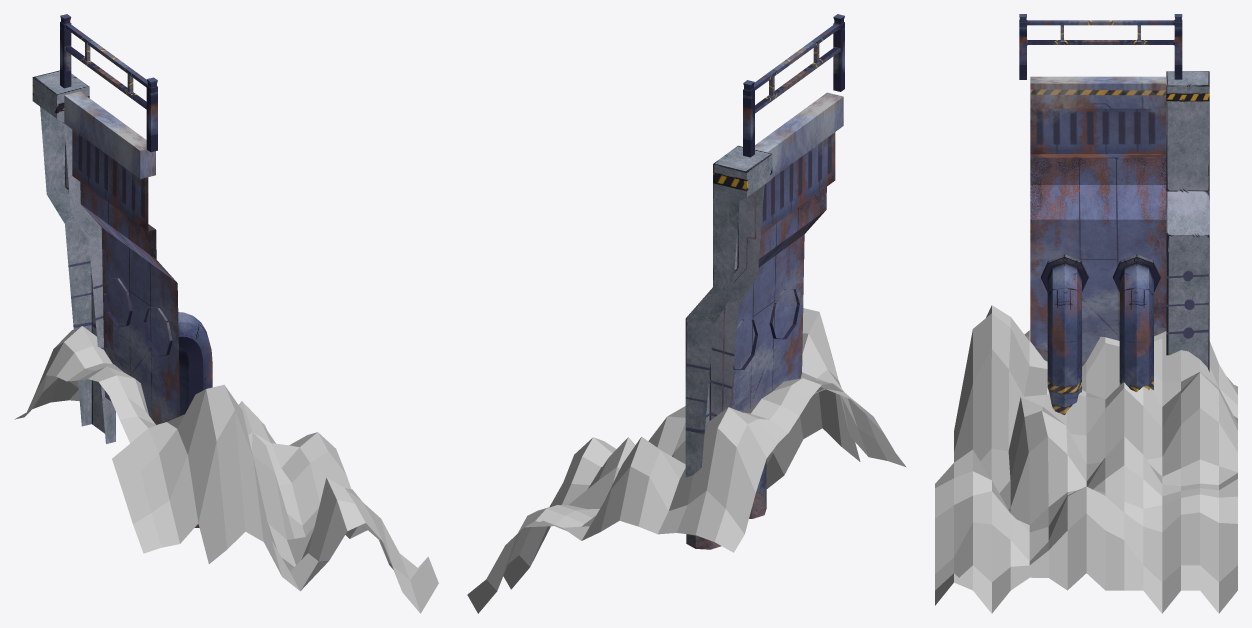
The model's file is MurComplet.fbx.
3 renders of one model, left to right at view 1: azimuth 30°, elevation 25°; view 2: azimuth 150°, elevation 25°; view 3: azimuth 270°, elevation 25°, orthographic. The views are drawn at different scales.
Parts seen in each view (by area): view 1: Plane.001, Cube.042, Cube.131, BézierCurve.001, Cube.134; view 2: Plane.001, Cube.042, Cube.131, Cube.134, BézierCurve.001; view 3: Plane.001, Cube.042, Cube.131, BézierCurve.001, Cube.134.
Boxes of the visible parts, x1,y1,x2,y2 form: Plane.001: (14,326,438,613); Cube.042: (63,91,180,424); Cube.131: (32,70,115,443); BézierCurve.001: (103,278,212,527); Cube.134: (60,14,157,152); Plane.001: (467,308,906,613); Cube.042: (721,92,843,412); Cube.131: (685,145,772,535); Cube.134: (743,14,844,157); BézierCurve.001: (686,289,799,549); Plane.001: (935,305,1237,613); Cube.042: (1030,76,1166,366); Cube.131: (1166,71,1209,371); BézierCurve.001: (1041,254,1160,414); Cube.134: (1019,14,1182,79).
Bounding box in the file's own units: 1160 × 2229 × 1237.
